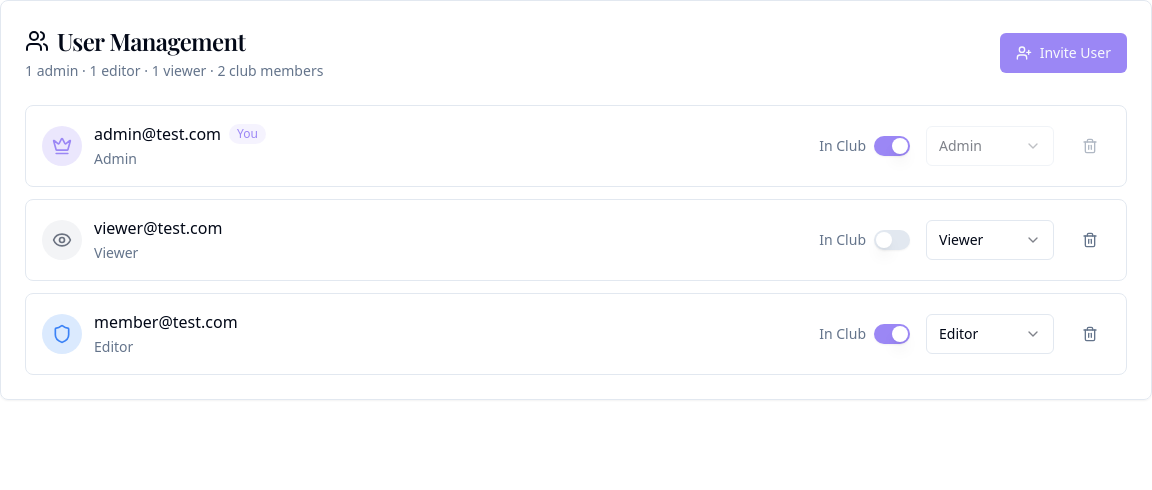
Scenario: UserManagement › Toggle Club Member › queues club member toggle as unsaved change
The image size is (1152, 490).
Expected: the text "viewer@test.com" is shown, [94,216,222,240]
What coordinates should you click on to do the following:
click the switch in the row of "viewer@test.com"
I would click on:
 (892, 240)
Its box is [874,230,910,250].
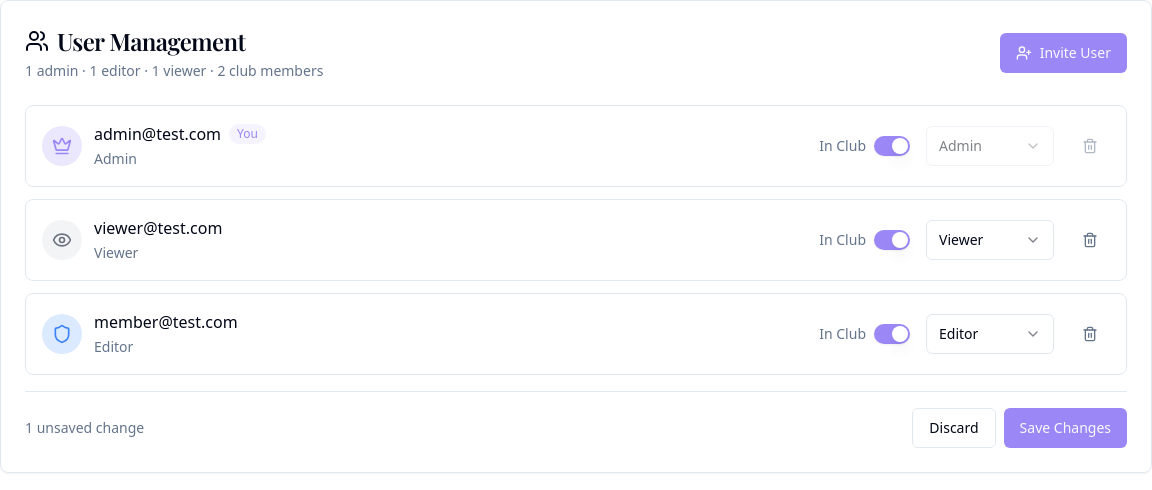
Expected: the text "1 unsaved change" is shown, [25,418,144,438]
Expected: the button "Save Changes" is shown, [1004,408,1127,448]
